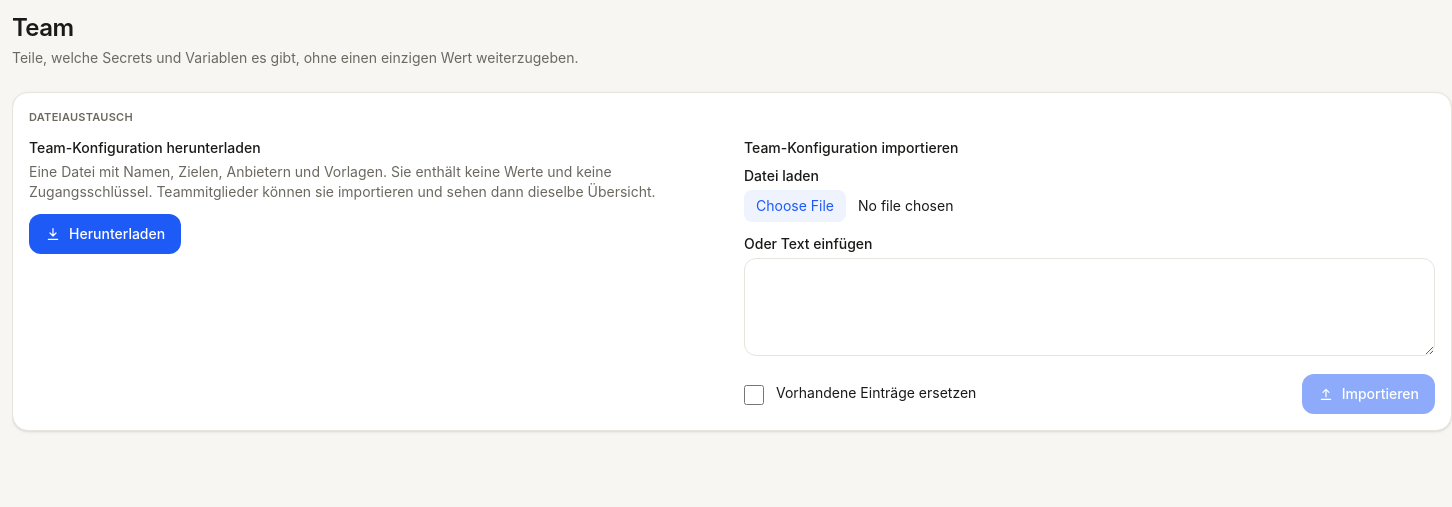
Test: Team page › shows the import failure
Click the text box labelled "Oder Text einfügen".
click(1090, 306)  # box [744,258,1435,356]
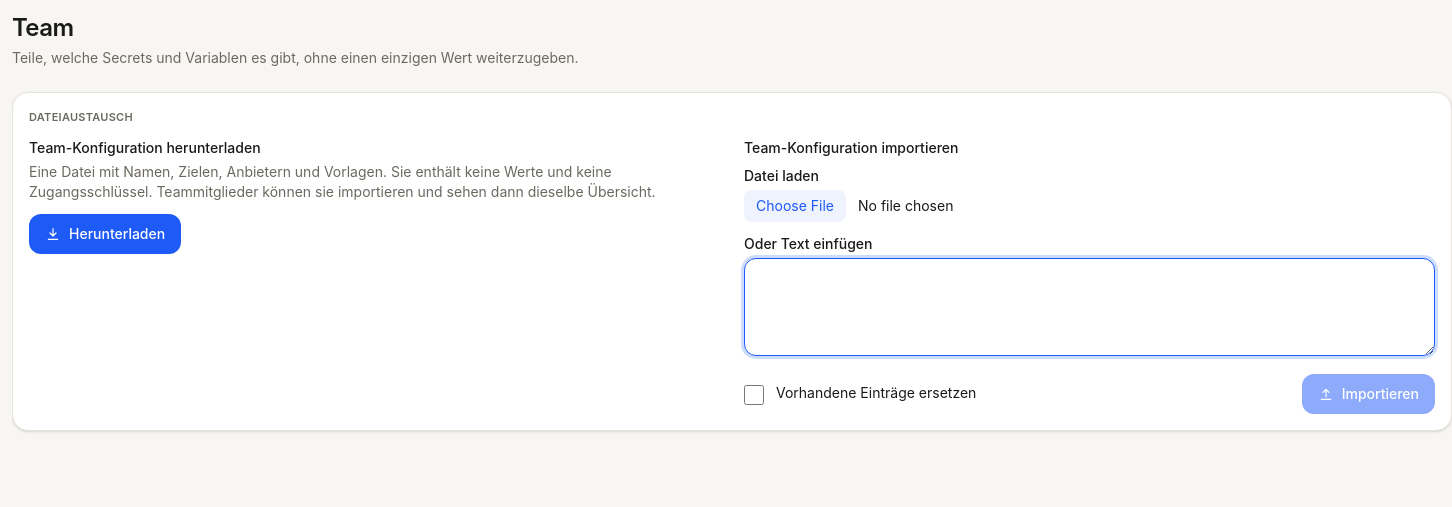
Type keys "oops"
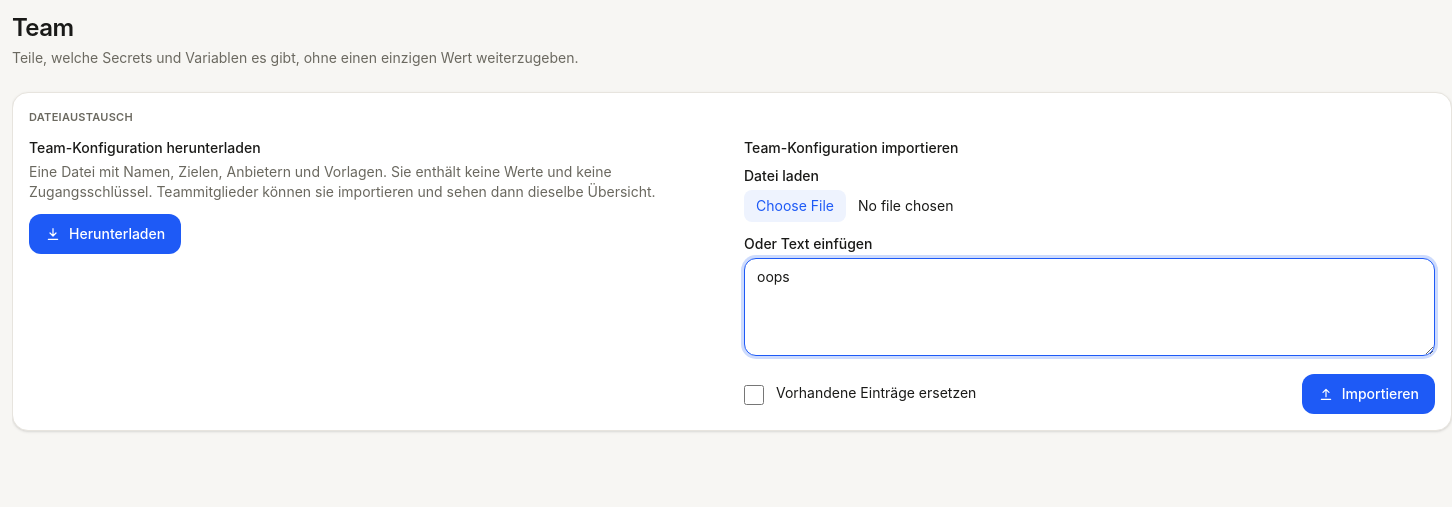
Click the button "Importieren".
click(1368, 394)  # box [1302,374,1435,414]
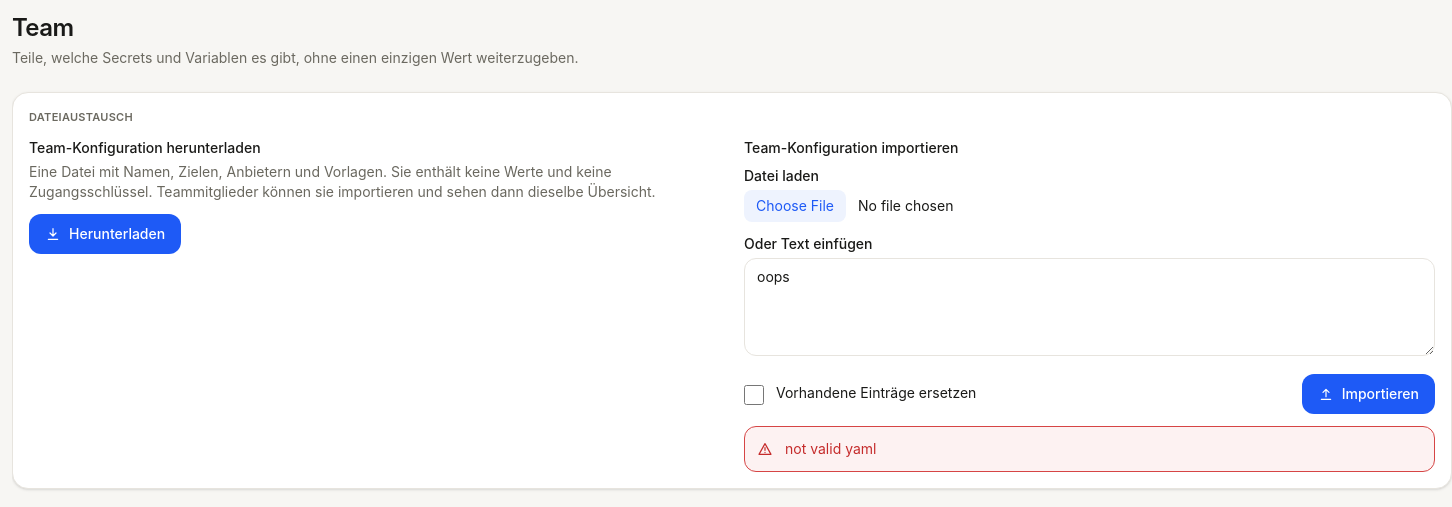
Expected: the text "not valid yaml" is shown, [785,440,876,456]
